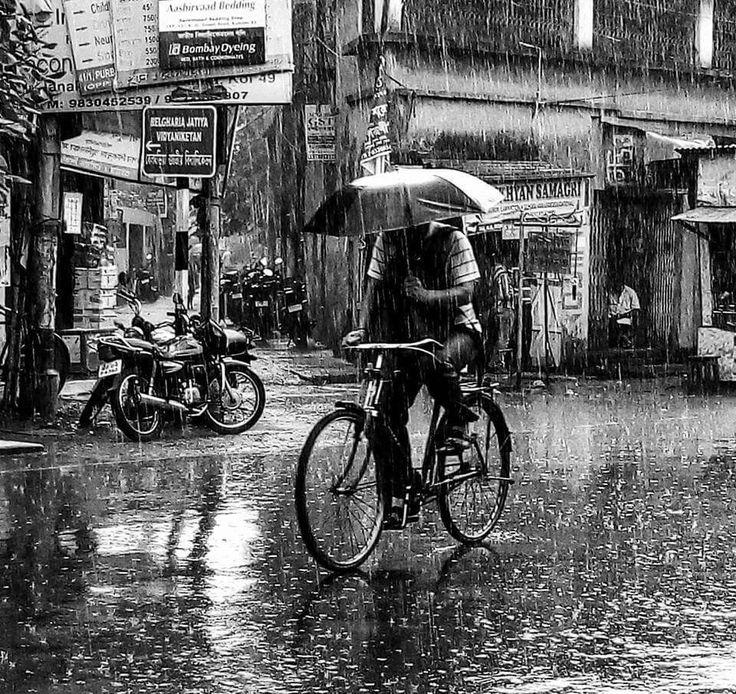bicycle: (294, 336, 518, 564)
motorcycle: (100, 320, 269, 434)
